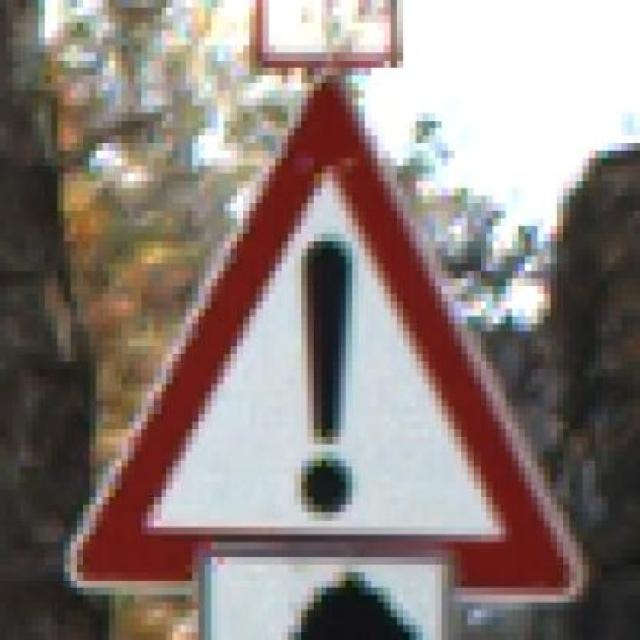Attention Please-: (58, 60, 602, 625)
